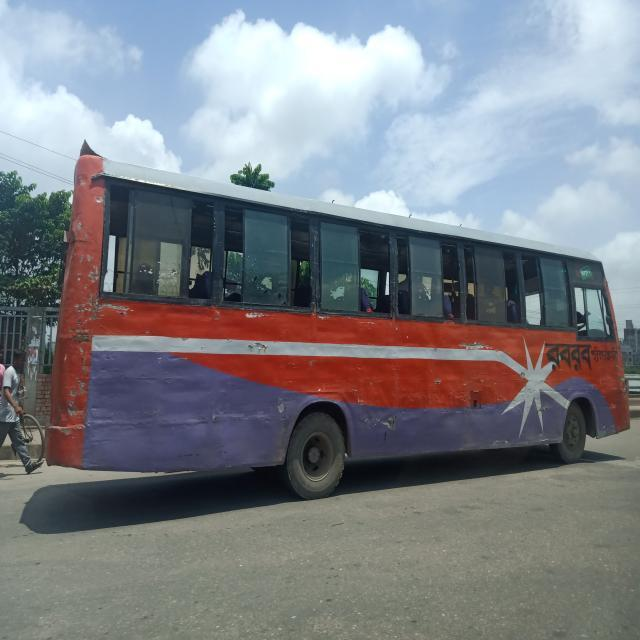bus: (46, 143, 631, 503)
